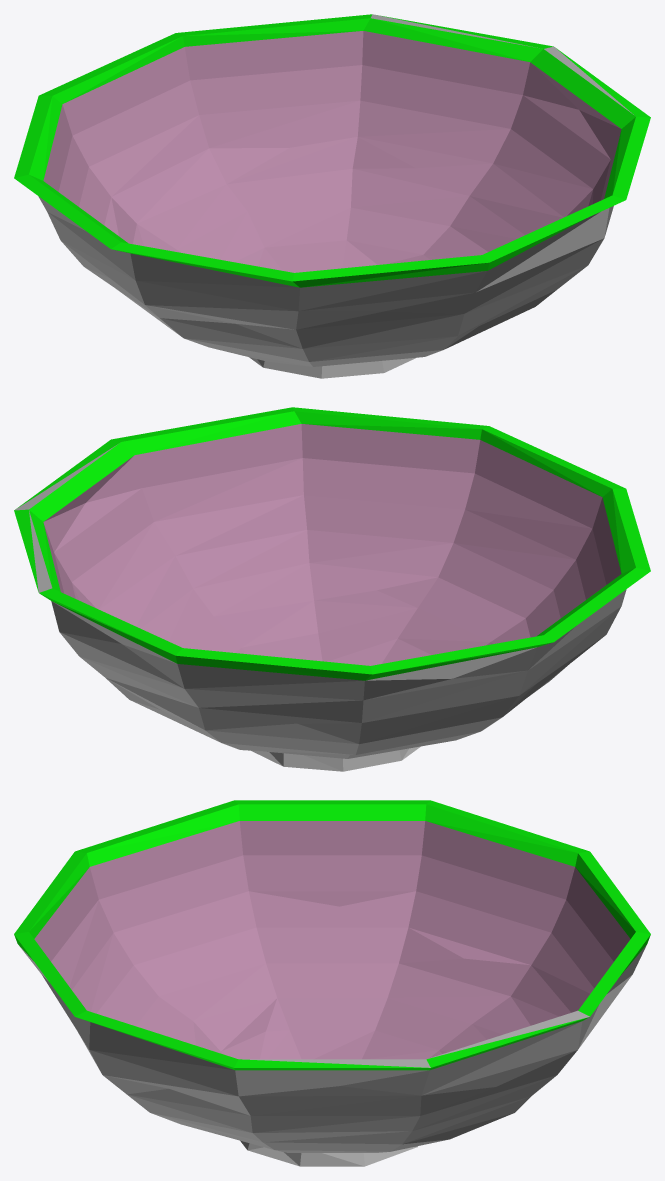
Rendered from Bowl.fbx.
3 renders of one model, top to bottom at view 1: azimuth 30°, elevation 25°; view 2: azimuth 150°, elevation 25°; view 3: azimuth 270°, elevation 25°, orthographic.
Visible parts, largest first — view 1: pSphere1; view 2: pSphere1; view 3: pSphere1.
Part boxes in pixels (x1,y1,x2,y2): pSphere1: (14,14,650,378); pSphere1: (14,407,650,771); pSphere1: (14,800,650,1166).
Bounding box in the file's own units: 2.08 × 0.6992 × 2.1.
